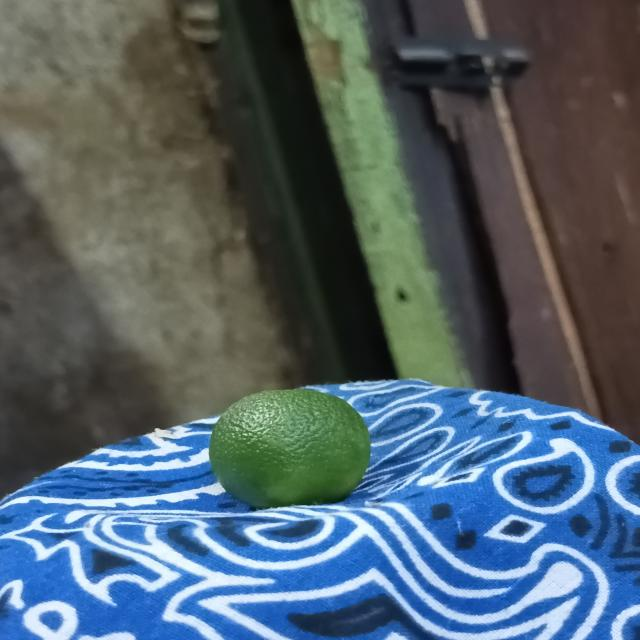heathy: (206, 382, 382, 510)
